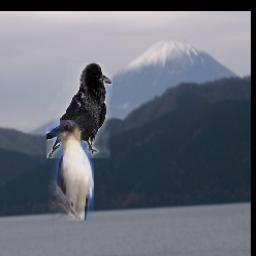Crow: (46, 63, 113, 159)
Cuckoo: (49, 120, 94, 221)
